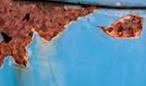rust: (33, 1, 100, 42), (1, 1, 30, 66), (104, 9, 143, 45)
